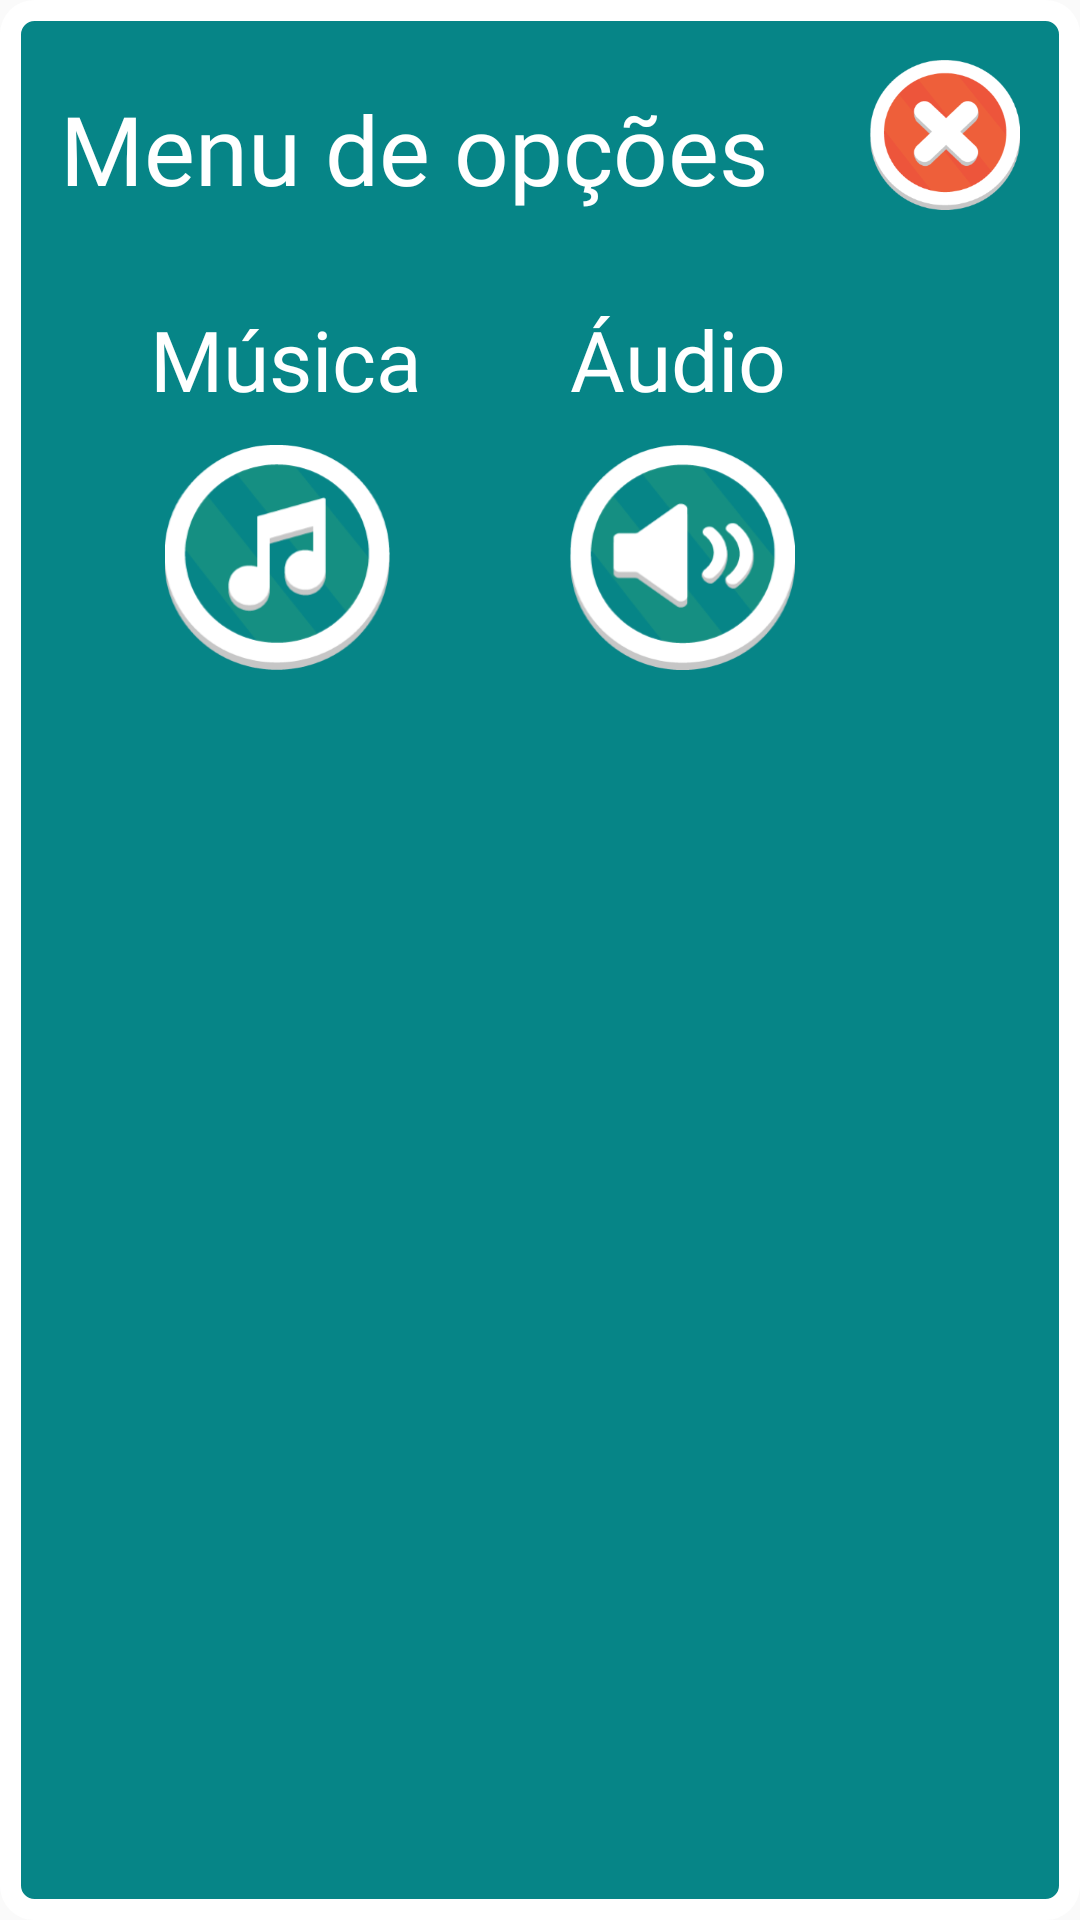

Icon click points for this 1080x1920 phone screenshot, format [x,y]:
leave: [945,135]
music on: [277,557]
sound on: [682,557]
